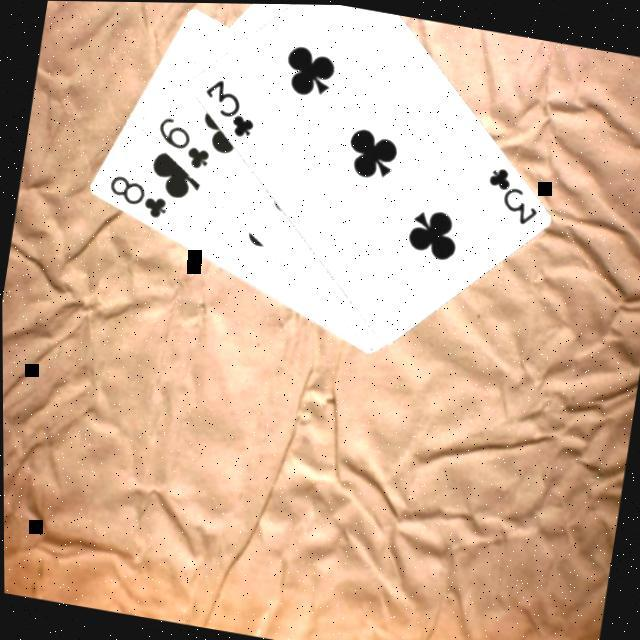3C: (192, 70, 262, 140), (475, 158, 544, 228)
6C: (146, 109, 216, 172)
8C: (98, 167, 172, 221)
